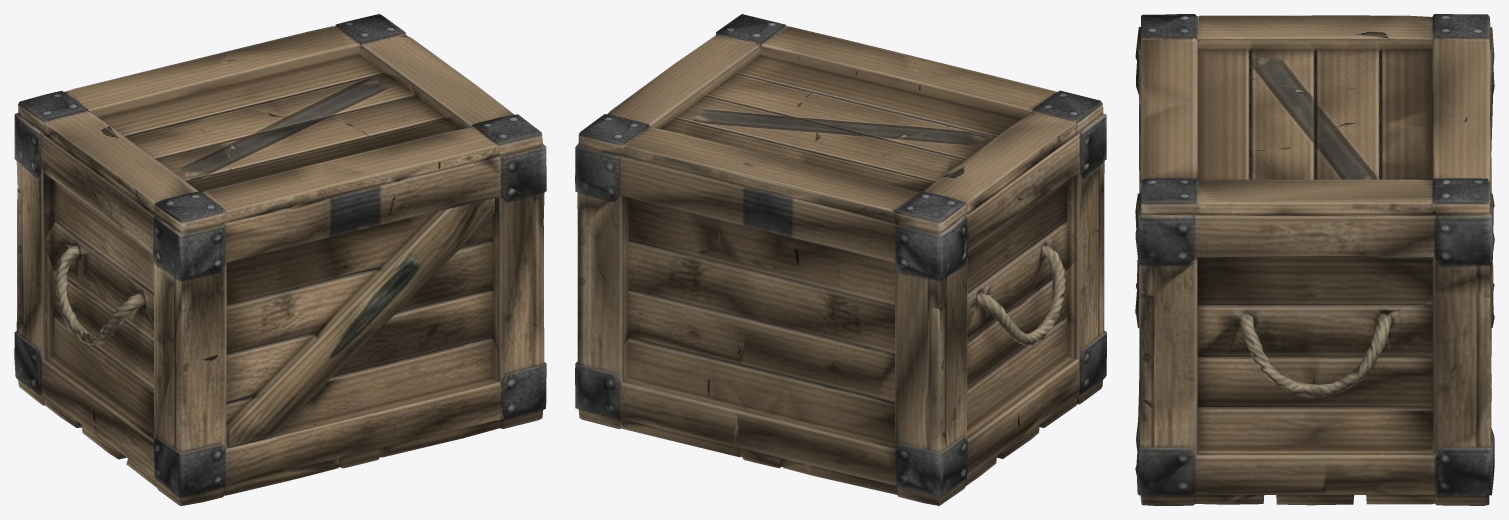
3 renders of one model, left to right at view 1: azimuth 30°, elevation 25°; view 2: azimuth 150°, elevation 25°; view 3: azimuth 270°, elevation 25°, orthographic. The views are drawn at different scales.
Bounding box in the file's own units: 1.9 × 1.3 × 1.37.
Materials: 1 (1 with a texture image).
